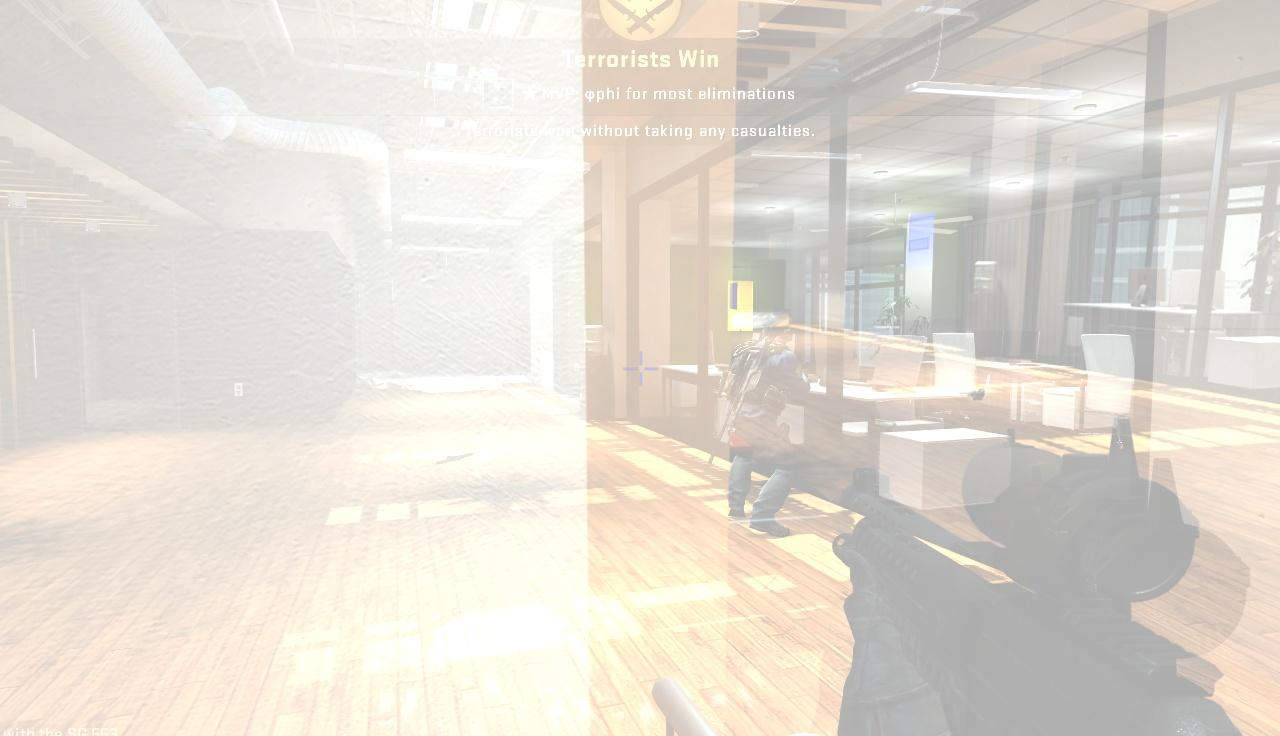ct: (729, 316, 804, 538)
cthead: (763, 319, 795, 346)
rifle: (830, 442, 1280, 736)
